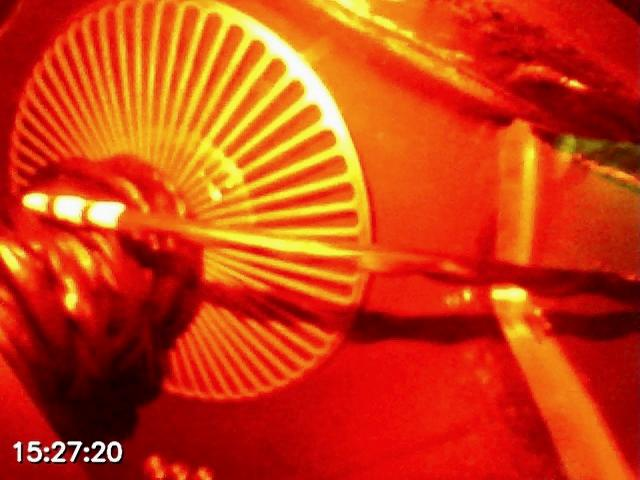white-dots: (22, 193, 125, 229)
